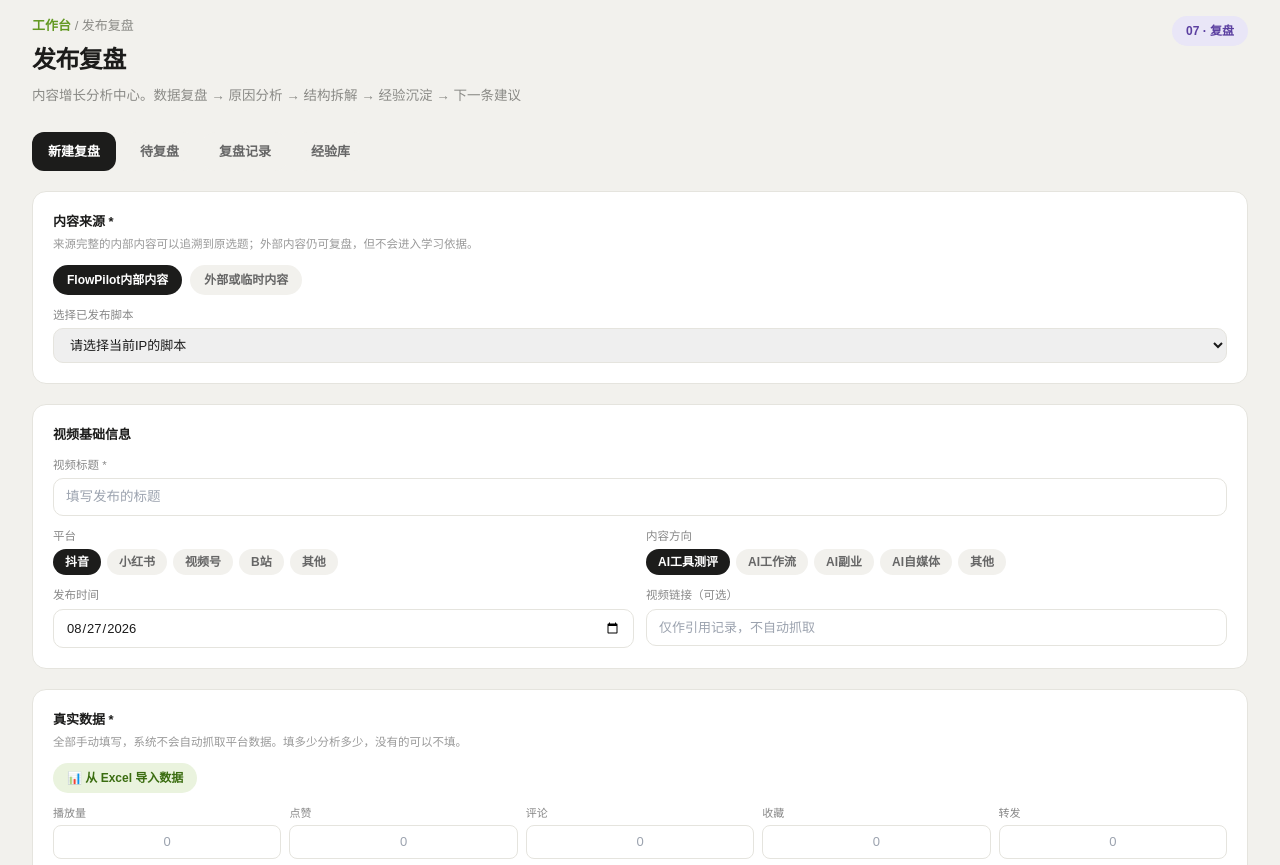
Test case: 分析结果渲染不会顺带维护或改写历史复盘数据
The width and height of the screenshot is (1280, 865).
Click the button "外部或临时内容". click: click(246, 280)
box: [190,265,302,295]
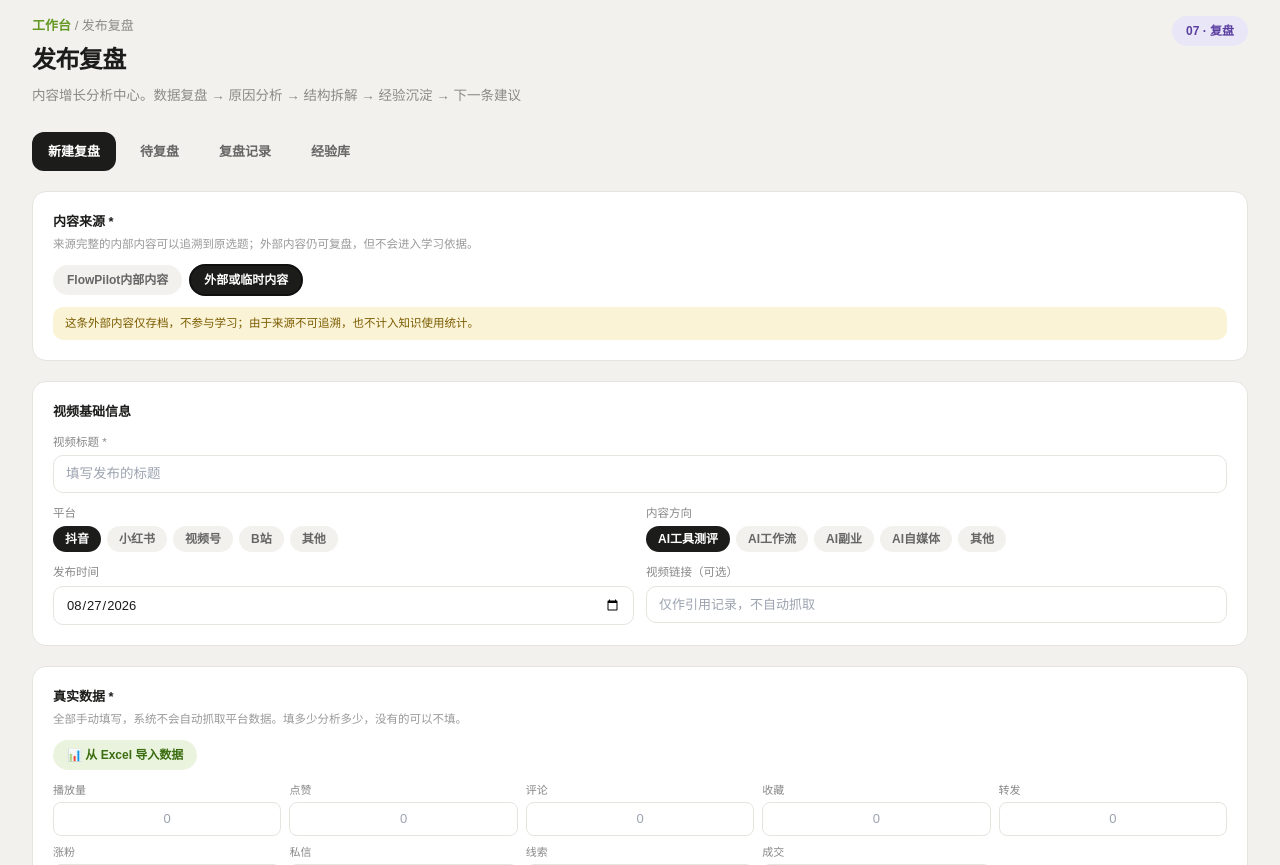
Type "仅用于验证渲染边界的外部复盘" into the field with placeholder "填写发布的标题". click: (640, 474)
box: [53,455,1227,493]
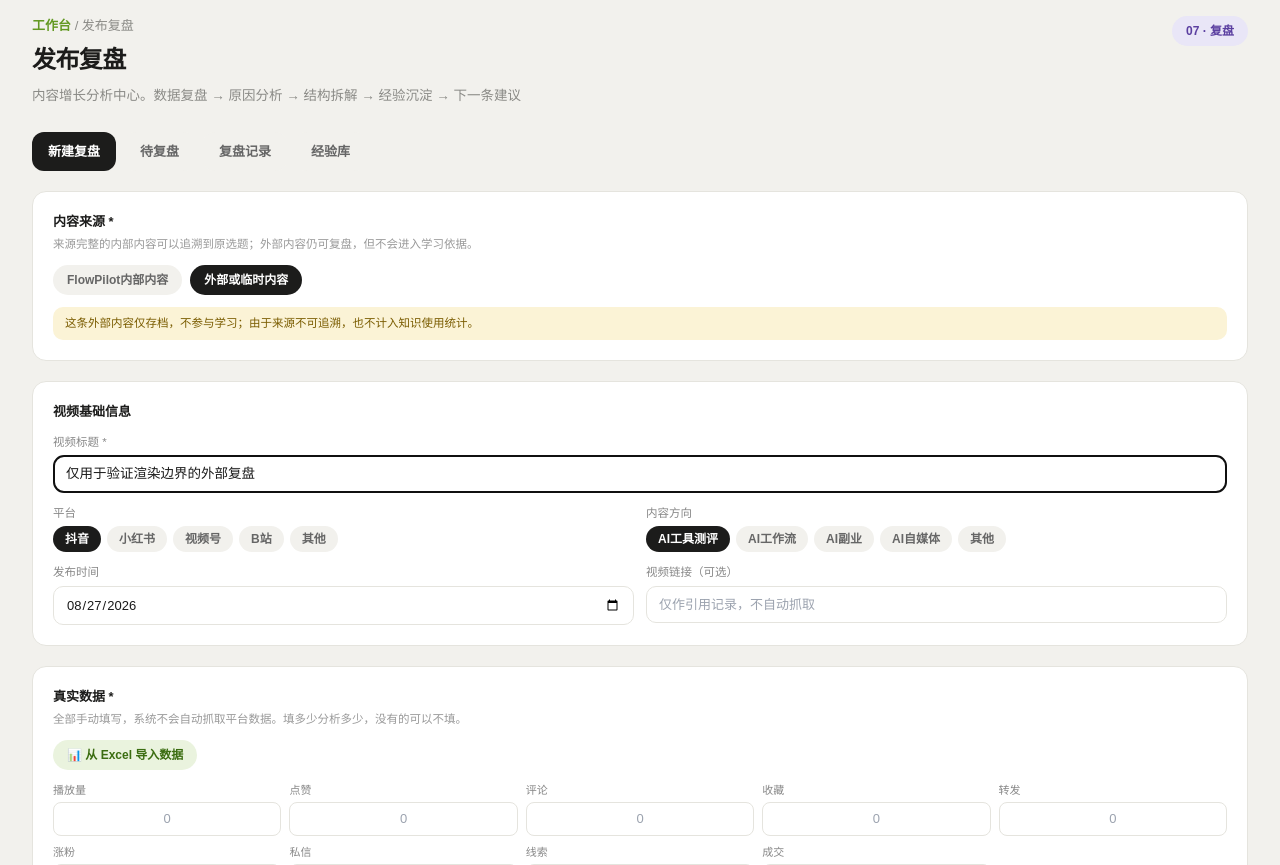
Type "1000" into the field with placeholder "0" below "播放量". click: (167, 819)
box: [53,802,281,836]
(page scrolled)
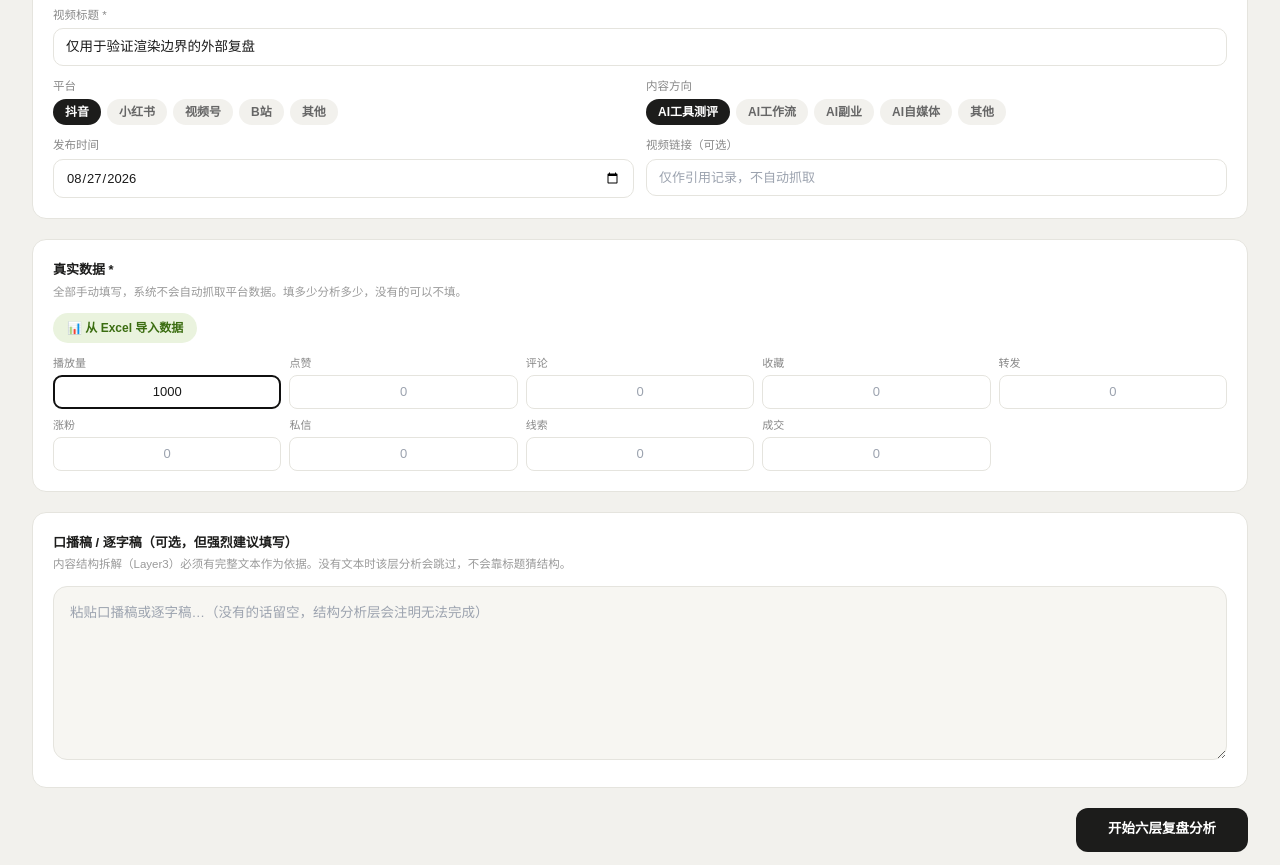
Click the button "开始六层复盘分析". click: click(1162, 830)
box: [1076,808,1248,852]
(page scrolled)
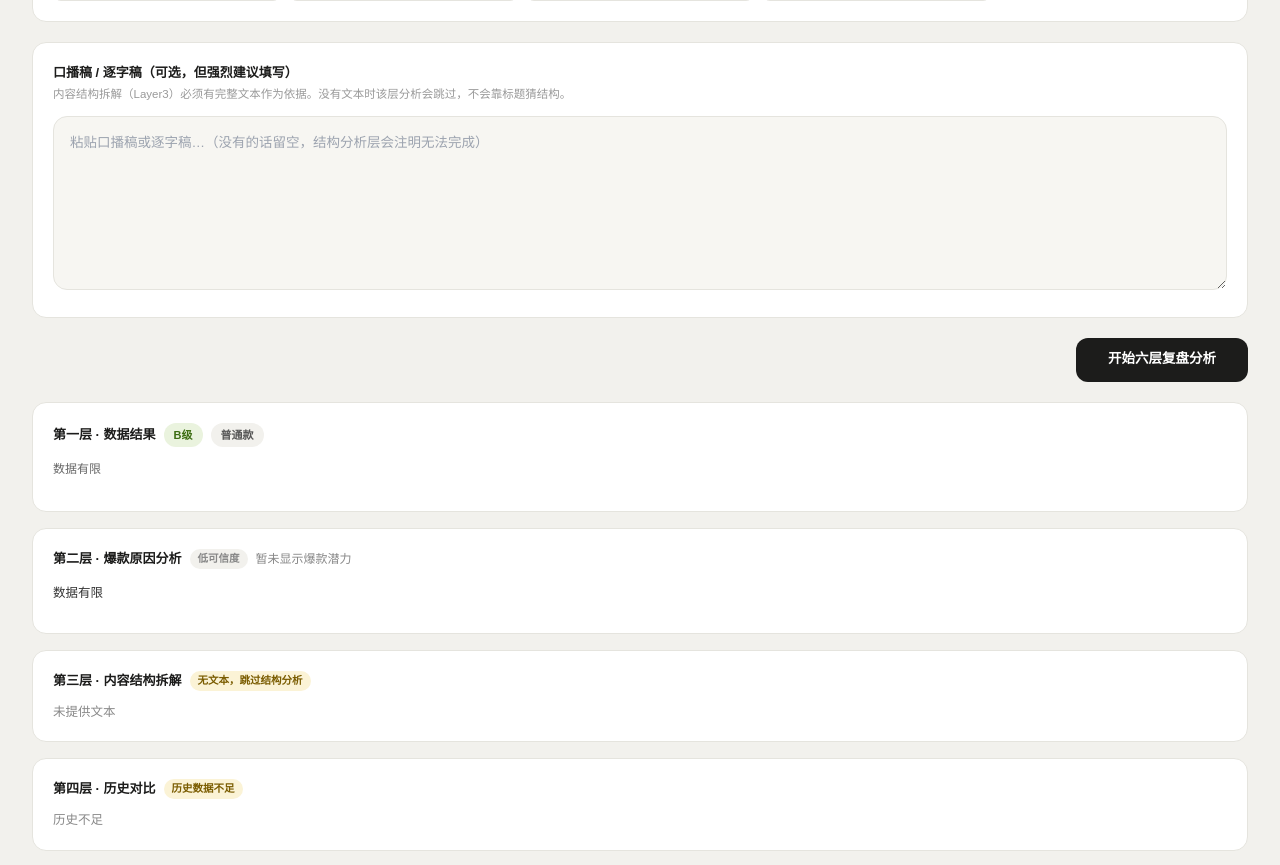
Expected: the text "第一层 · 数据结果" is shown, [53,425,156,444]
